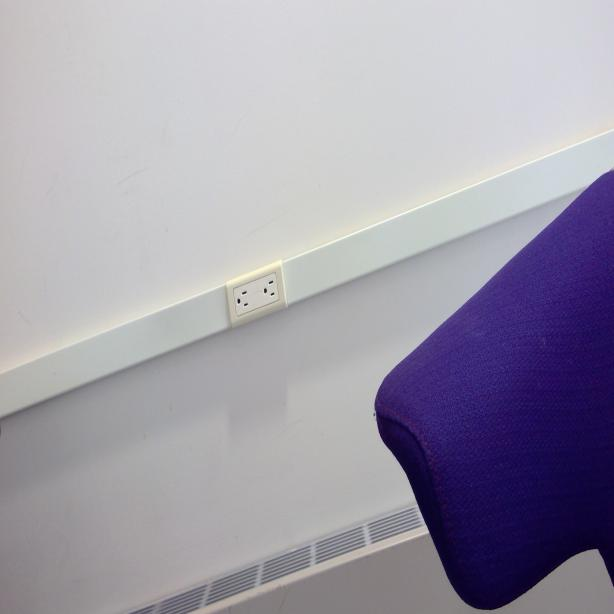typeb: (234, 286, 254, 309), (262, 277, 278, 302)
